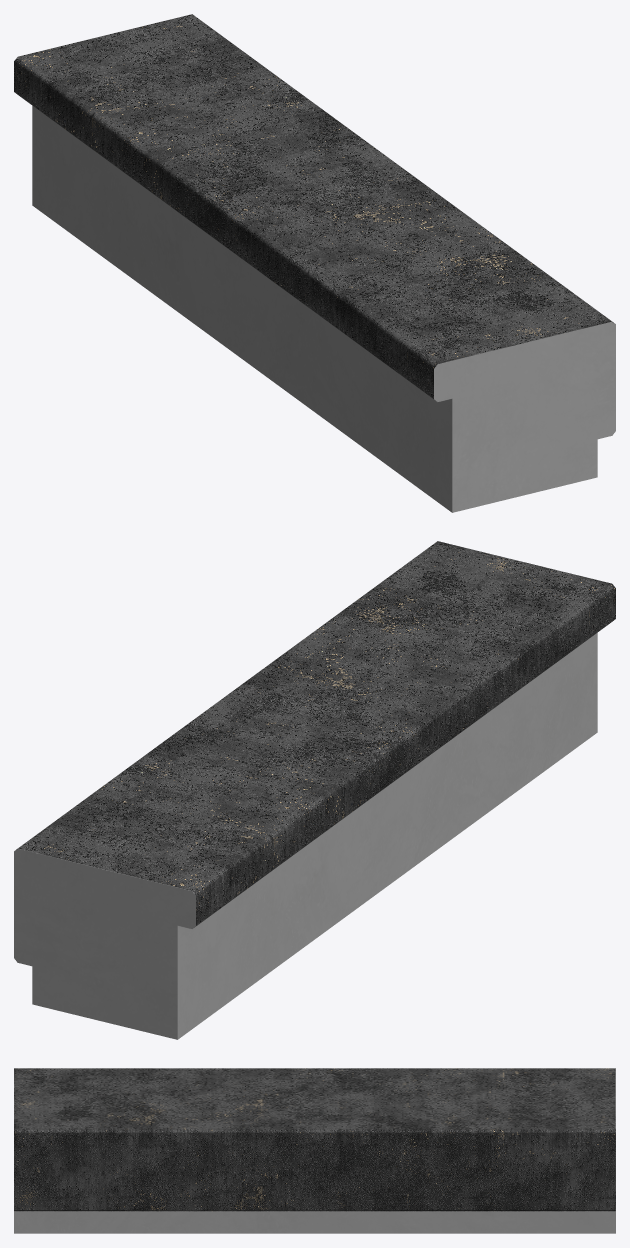
Rendered from SM_RoofLedge_straight_01.fbx.
3 views of the same model, one above another, from view 1: azimuth 30°, elevation 25°; view 2: azimuth 150°, elevation 25°; view 3: azimuth 270°, elevation 25° (orthographic). The views are drawn at different scales.
Parts seen in each view (by area): view 1: SM_RoofLedge_straight_01_LOD0; view 2: SM_RoofLedge_straight_01_LOD0; view 3: SM_RoofLedge_straight_01_LOD0.
Boxes of the visible parts, box(x1,y1,x2,y2) form: SM_RoofLedge_straight_01_LOD0: box(14, 14, 615, 512); SM_RoofLedge_straight_01_LOD0: box(14, 541, 615, 1039); SM_RoofLedge_straight_01_LOD0: box(14, 1068, 615, 1233).
Bounding box in the file's own units: 50 × 200 × 40.
